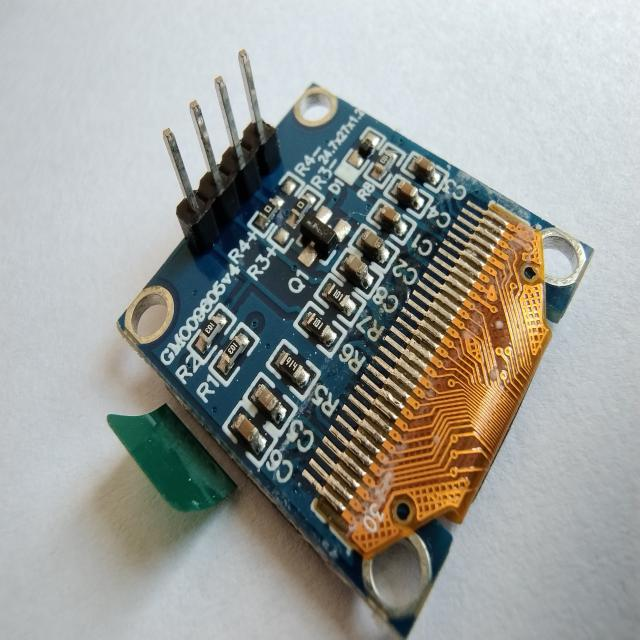oled: (107, 46, 592, 640)
